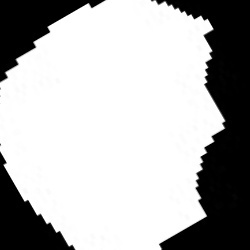spot: (2, 1, 226, 248)
